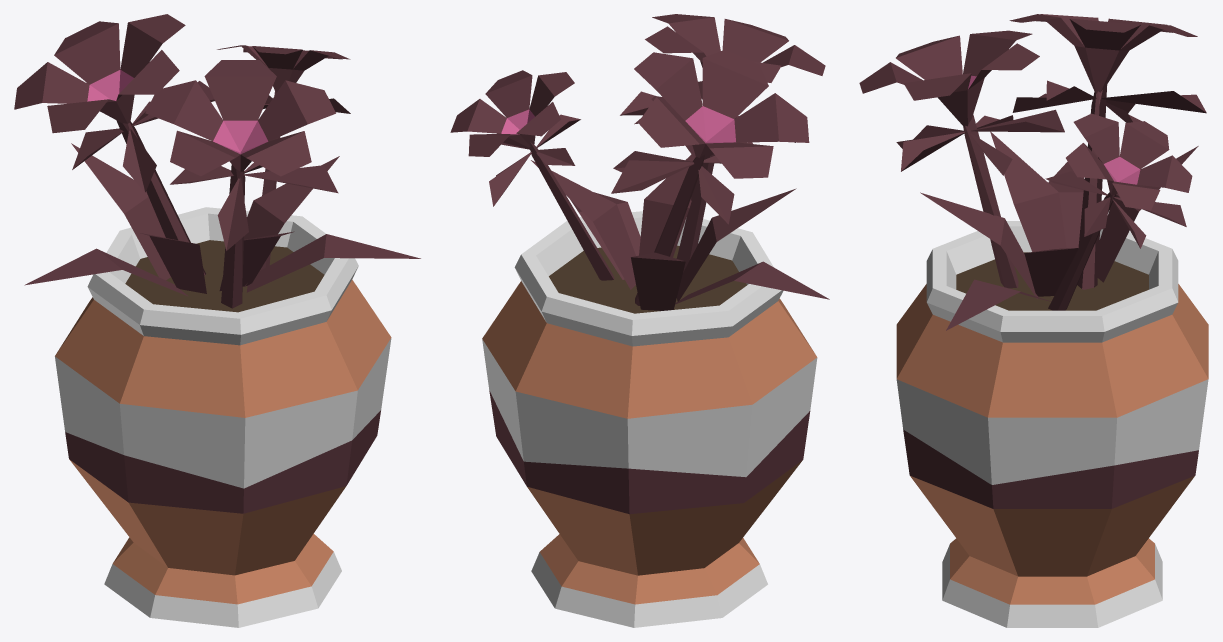
Rendered from SM_Flowerpot_Medium_Standing_Empire.fbx.
3 renders of one model, left to right at view 1: azimuth 30°, elevation 25°; view 2: azimuth 150°, elevation 25°; view 3: azimuth 270°, elevation 25°, orthographic.
Visible parts, largest first — view 1: SM_Flowerpot_Medium_Standing_Empire; view 2: SM_Flowerpot_Medium_Standing_Empire; view 3: SM_Flowerpot_Medium_Standing_Empire.
Part boxes in pixels (x1,y1,x2,y2): SM_Flowerpot_Medium_Standing_Empire: (14,14,420,627); SM_Flowerpot_Medium_Standing_Empire: (450,14,829,627); SM_Flowerpot_Medium_Standing_Empire: (859,14,1208,627).
Size of the model in its own units: 0.6336 by 0.9504 by 0.5547.
